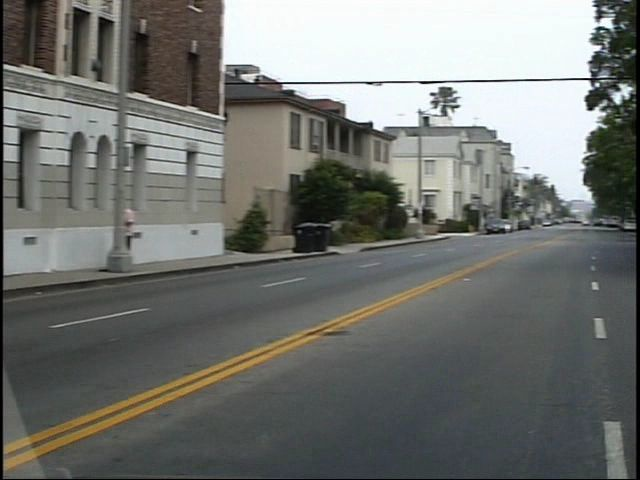person: (125, 194, 159, 270)
